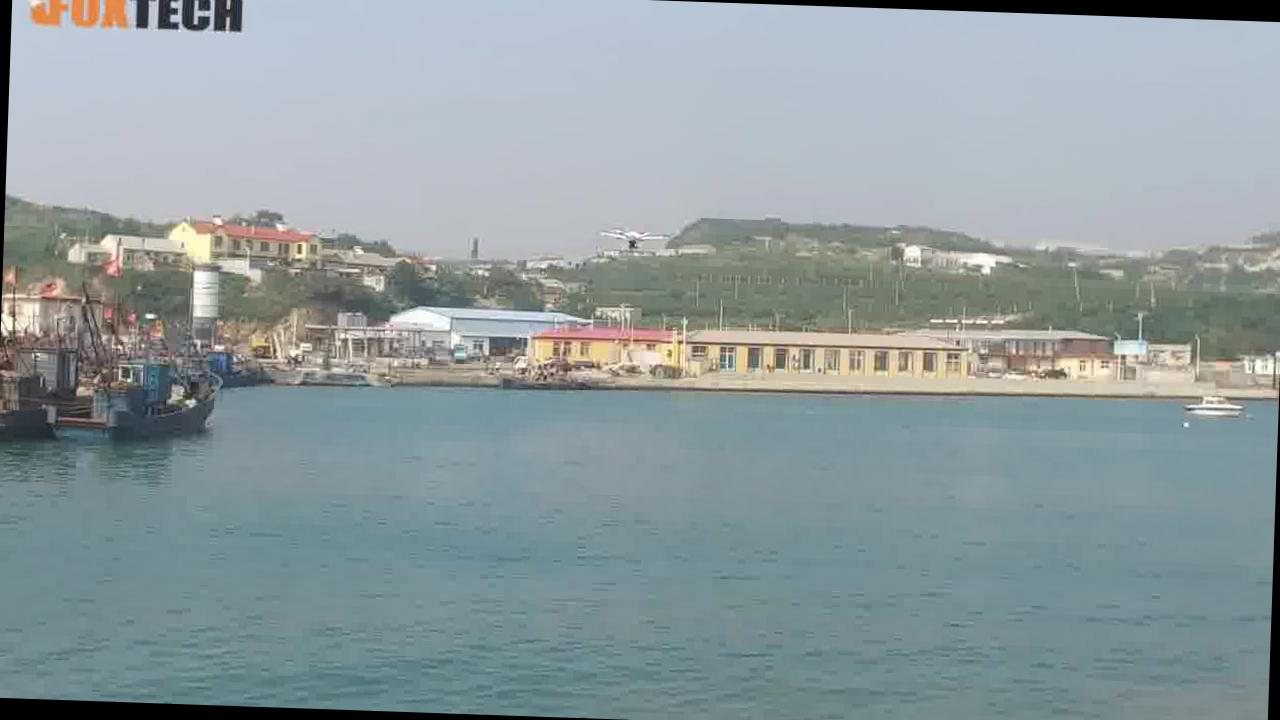drone: (595, 222, 679, 252)
